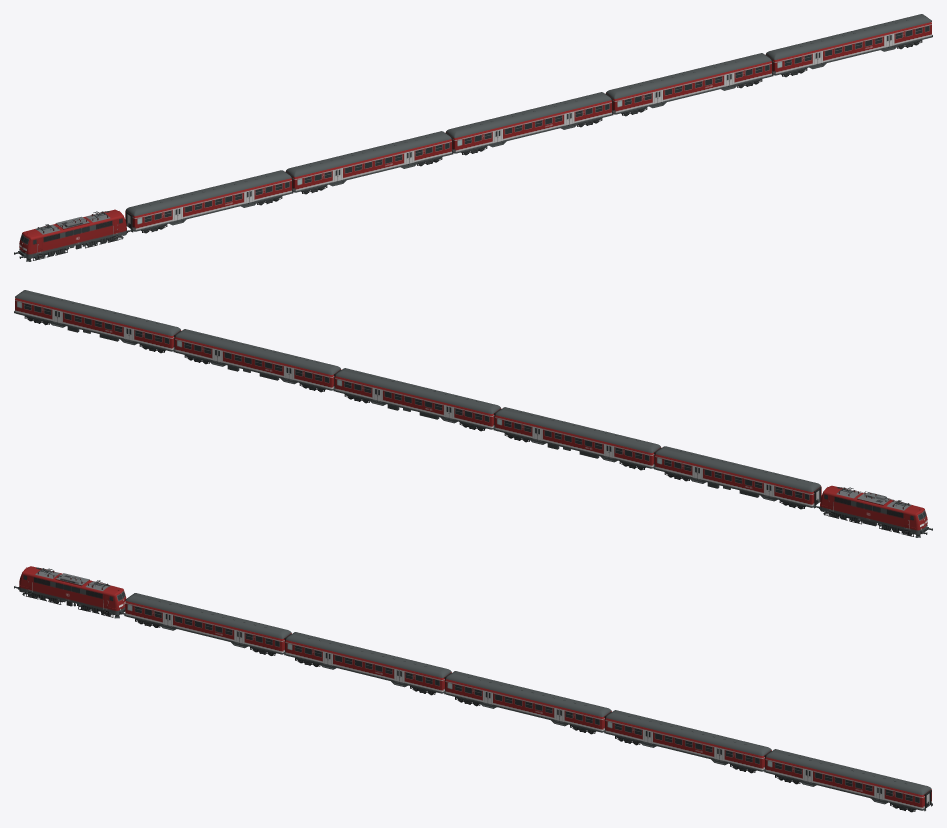
The model's file is deutscherBahnVerkehr.glb.
3 views of the same model, one above another, from view 1: azimuth 30°, elevation 25°; view 2: azimuth 150°, elevation 25°; view 3: azimuth 330°, elevation 25° (orthographic).
Parts seen in each view (by area): view 1: DB Regio n-Wagen "Silberling", BR111; view 2: DB Regio n-Wagen "Silberling", BR111; view 3: DB Regio n-Wagen "Silberling", BR111.
Boxes of the visible parts, <box> form: DB Regio n-Wagen "Silberling": <box>125,14,932,233</box>; BR111: <box>14,209,131,261</box>; DB Regio n-Wagen "Silberling": <box>14,290,821,509</box>; BR111: <box>815,485,932,537</box>; DB Regio n-Wagen "Silberling": <box>124,593,932,812</box>; BR111: <box>14,566,126,618</box>.
Size of the model in its own units: 151 by 4.7 by 2.98.
Materials: 2 (2 with a texture image).
